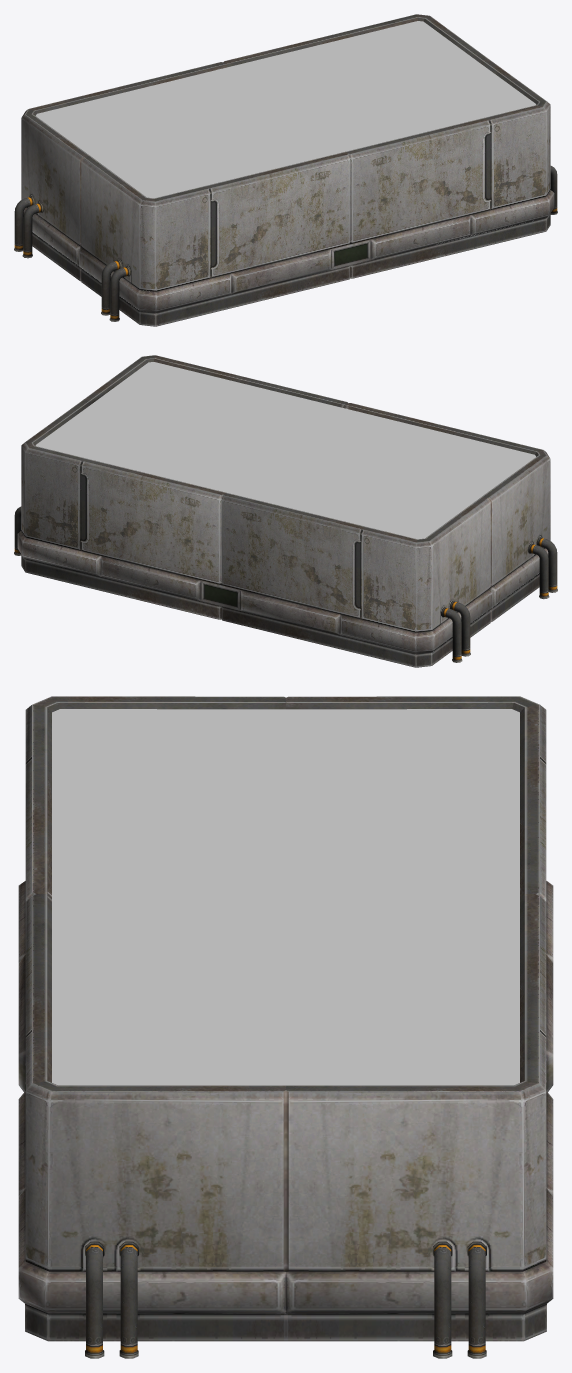
File: computer_lab_table_large.dae
3 views of the same model, one above another, from view 1: azimuth 30°, elevation 25°; view 2: azimuth 150°, elevation 25°; view 3: azimuth 270°, elevation 25° (orthographic). The views are drawn at different scales.
Visible parts, largest first — view 1: Mesh, screen; view 2: Mesh, screen; view 3: screen, Mesh.
Part boxes in pixels (x1,y1,x2,y2): Mesh: (14,14,557,326); screen: (36,21,536,198); Mesh: (14,355,557,667); screen: (35,362,535,539); screen: (52,709,519,1085); Mesh: (18,696,553,1358).
Size of the model in its own units: 3.65 by 0.9644 by 1.89.
